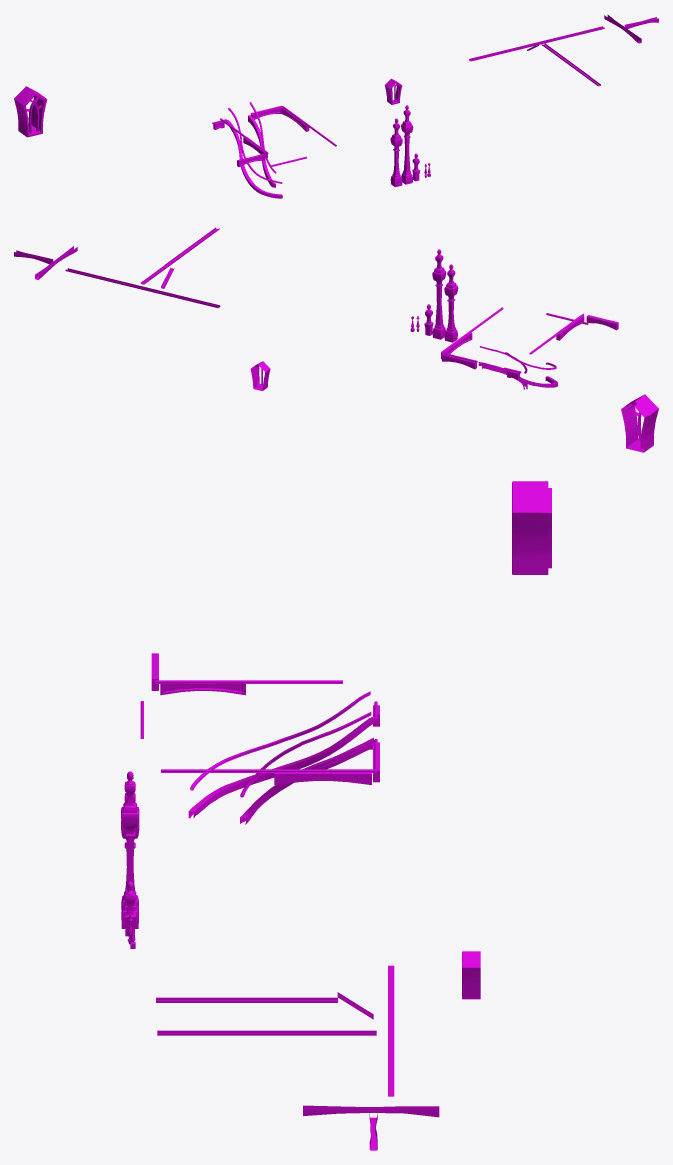
Rendered from Sm_test_rambarde.fbx.
The picture shows the model from 3 angles, top to bottom: view 1: azimuth 30°, elevation 25°; view 2: azimuth 150°, elevation 25°; view 3: azimuth 270°, elevation 25°; orthographic projection. The views are drawn at different scales.
Visible parts, largest first — view 1: SM_test_material; view 2: SM_test_material; view 3: SM_test_material.
Part boxes in pixels (x1,y1,x2,y2): SM_test_material: (14,14,658,198); SM_test_material: (14,227,658,452); SM_test_material: (121,481,551,1150).
Bounding box in the file's own units: 56.91 × 7.9 × 17.69.
